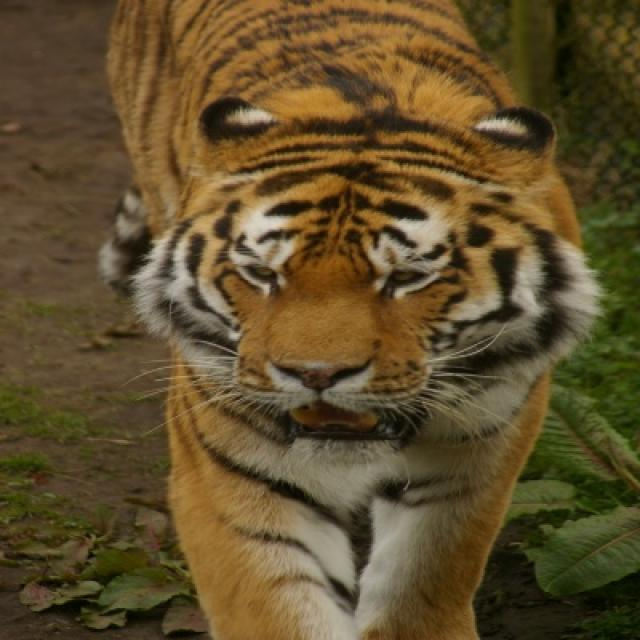Tiger: (108, 0, 596, 638)
